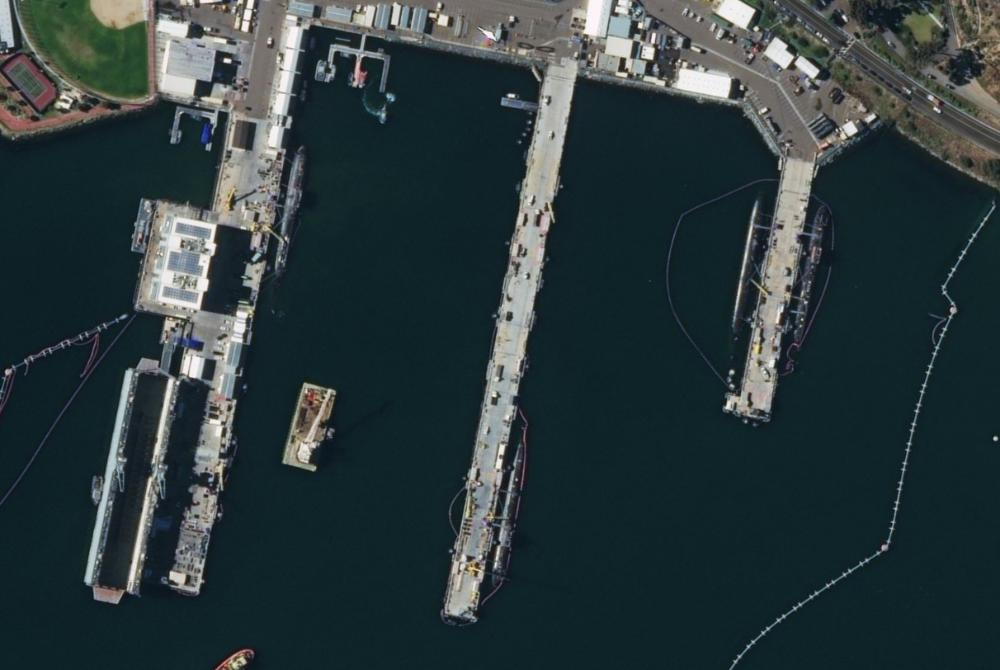submarine: (786, 194, 841, 383), (485, 436, 534, 601), (266, 141, 311, 300), (724, 196, 771, 335)
